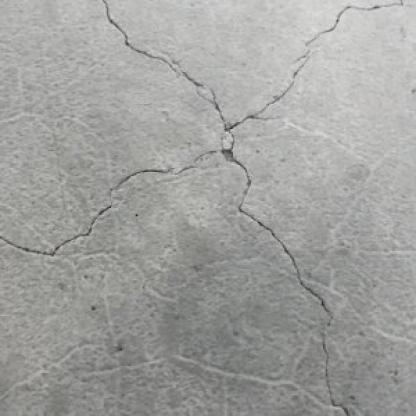branched cracks: (0, 0, 403, 415)
